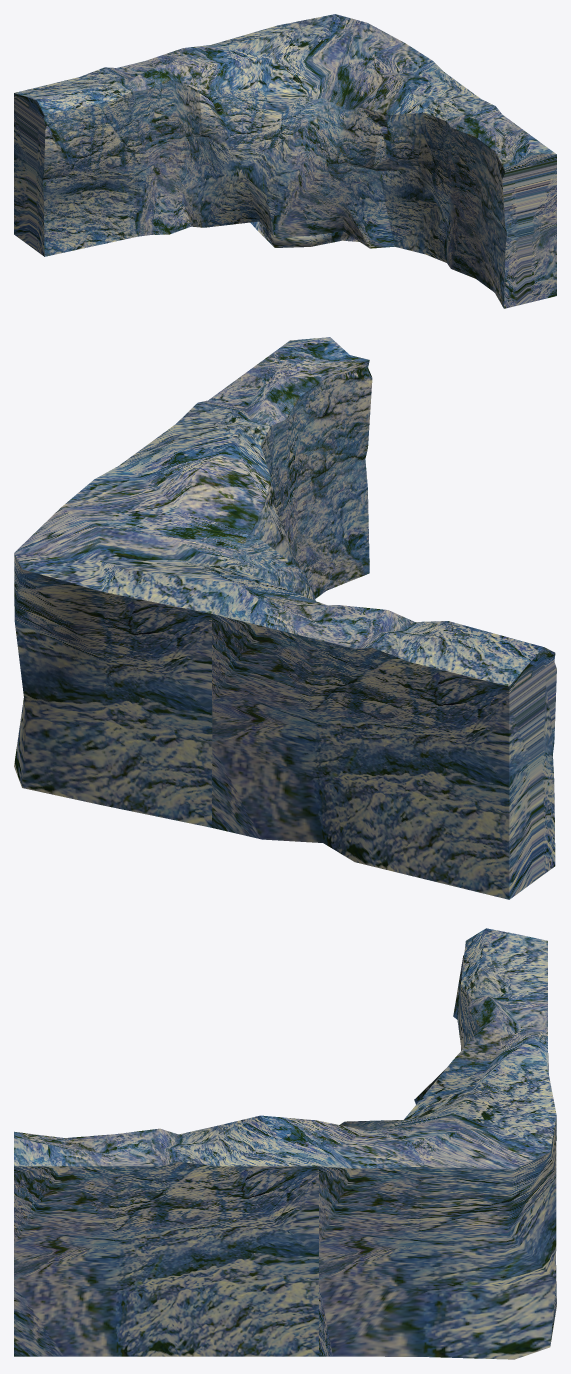
File: rockWall_corner.fbx
3 renders of one model, top to bottom at view 1: azimuth 30°, elevation 25°; view 2: azimuth 150°, elevation 25°; view 3: azimuth 270°, elevation 25°, orthographic. The views are drawn at different scales.
Visible parts, largest first — view 1: polySurface1; view 2: polySurface1; view 3: polySurface1.
Part boxes in pixels (left/top/right/bottom): polySurface1: left=14, top=14, right=556, bottom=308; polySurface1: left=14, top=337, right=556, bottom=899; polySurface1: left=14, top=928, right=556, bottom=1359.
Size of the model in its own units: 28.25 by 28.47 by 12.18.
